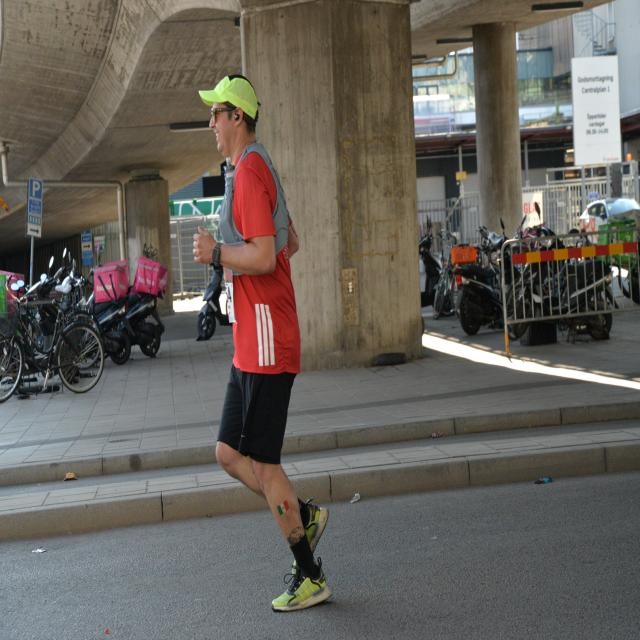runner-detect: (182, 62, 366, 620)
